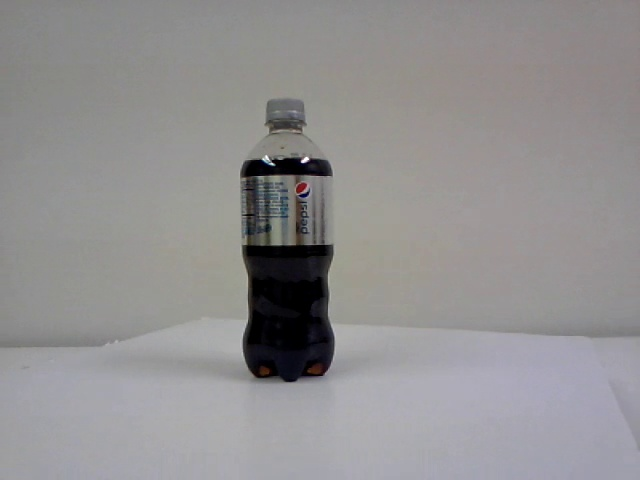botolplastik: (240, 100, 333, 381)
